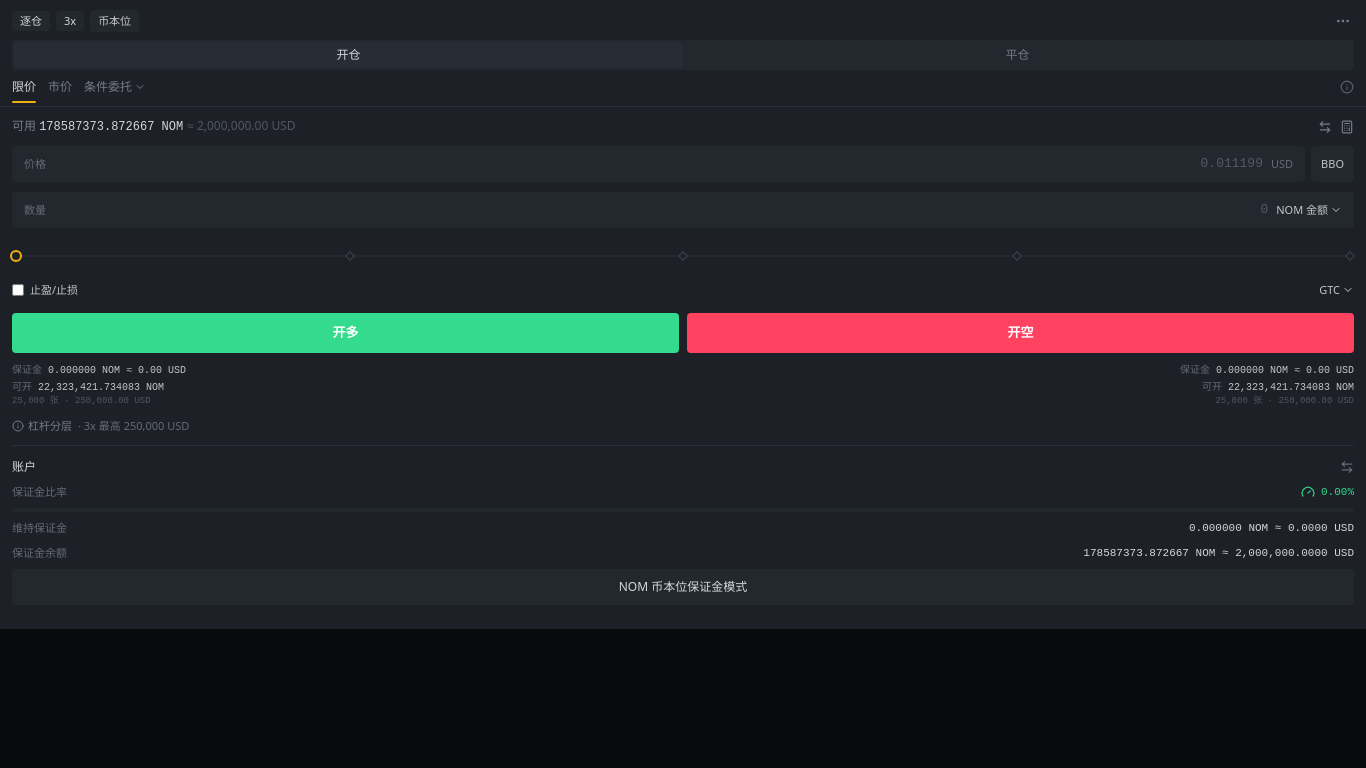
随单下达的止盈止损 › 分段订单 不给勾选止盈止损
Click the button with test id "advanced-type-slot": point(115, 90) [84,78,146,102]
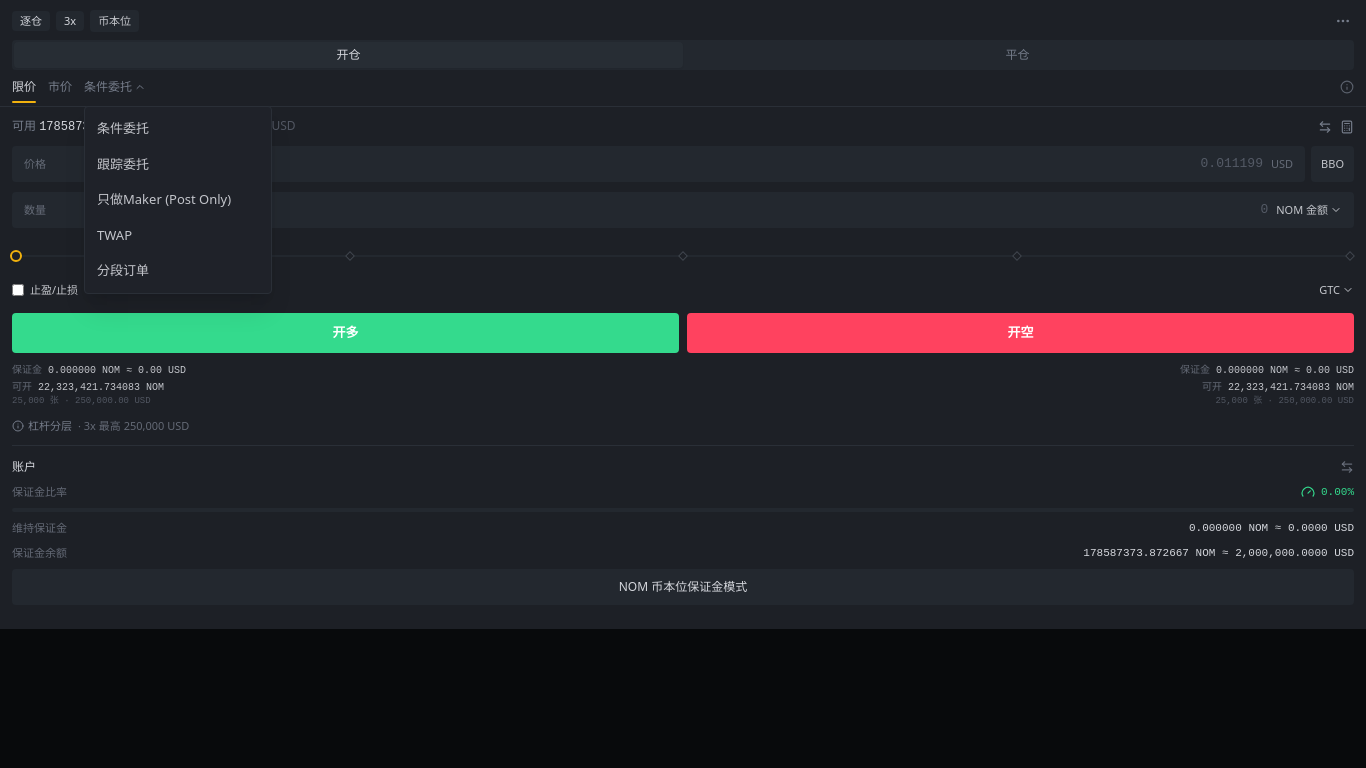
Click the button "分段订单": point(178, 271) [85,253,271,288]
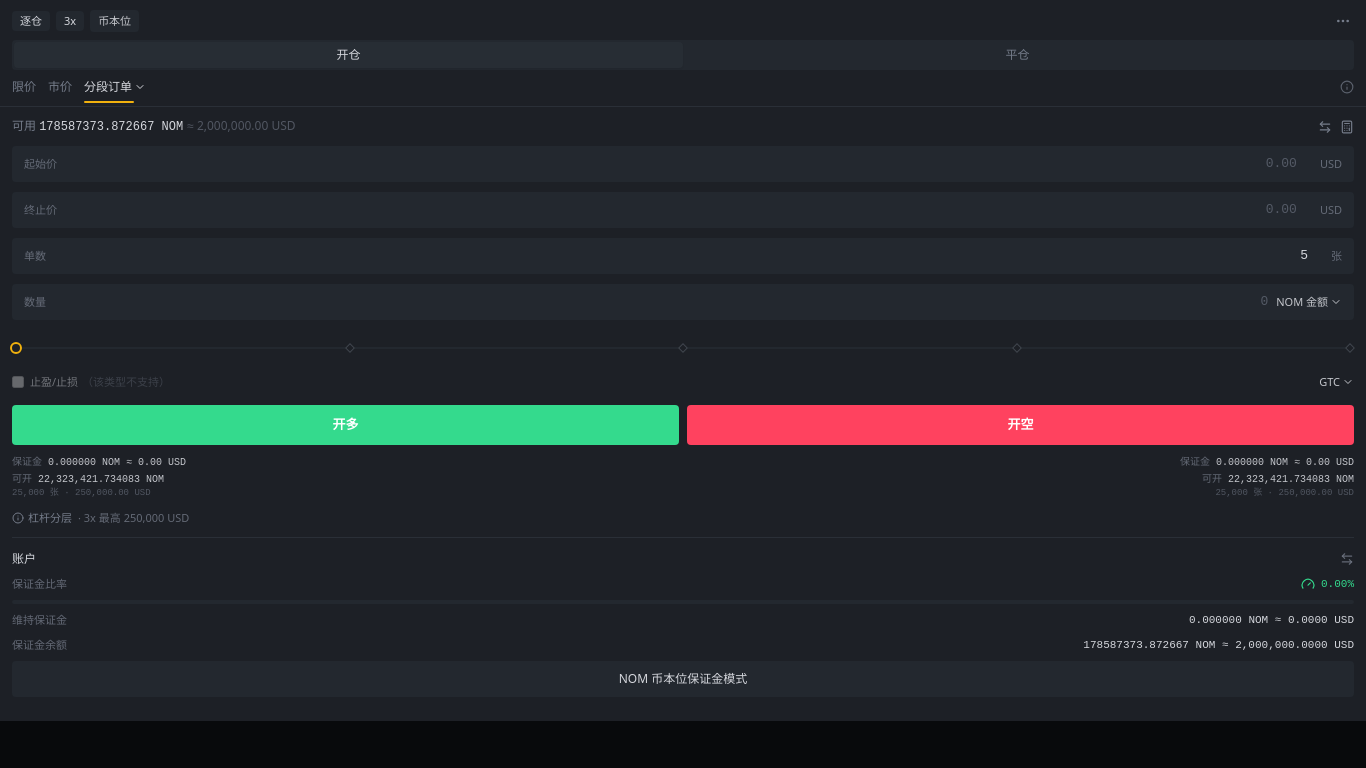
Result: the checkbox with test id "enable-tpsl" is disabled at [12,376,24,388]
Result: the text "（该类型不支持）" is shown at [82,374,170,389]
